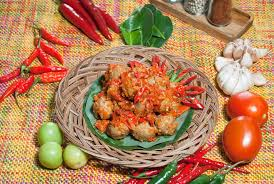bakso: (97, 64, 189, 139)
